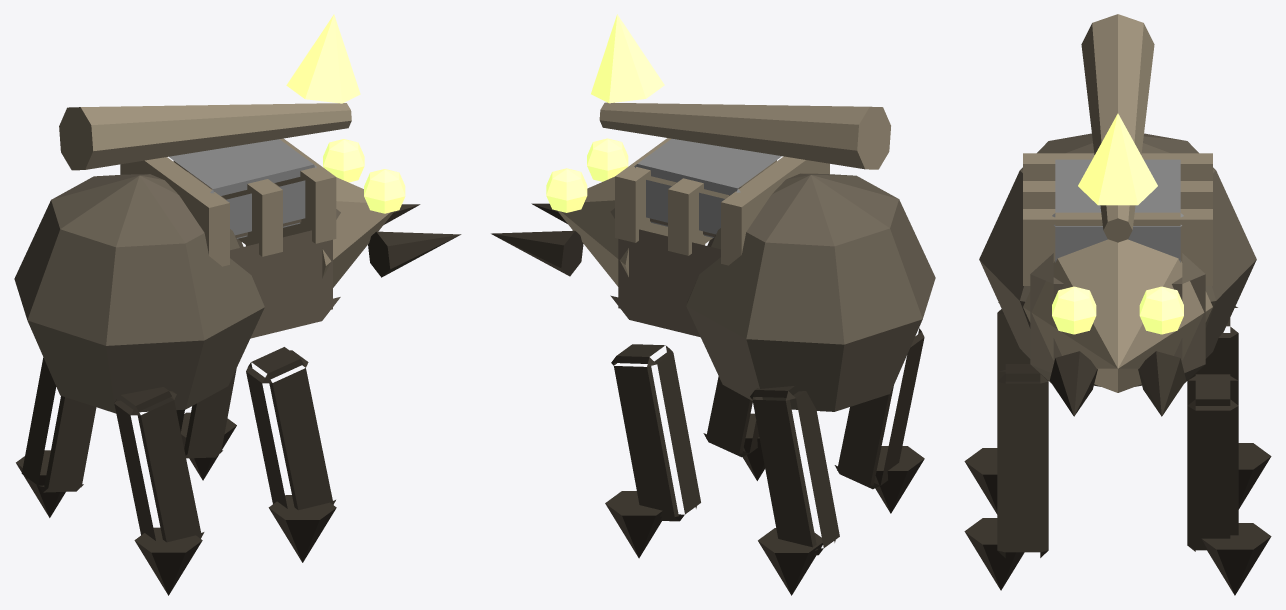
The model's file is bl_barbs.glb.
The picture shows the model from 3 angles, left to right: view 1: azimuth 30°, elevation 25°; view 2: azimuth 150°, elevation 25°; view 3: azimuth 270°, elevation 25°; orthographic projection. The views are drawn at different scales.
Parts seen in each view (by area): view 1: body, leg_2_a, leg_3_b, leg_1_a, leg_0_b; view 2: body, leg_0_b, leg_1_a, leg_3_b, leg_2_a; view 3: body, leg_2_a, leg_0_b, leg_1_a, leg_3_b.
Boxes of the visible parts, x1,y1,x2,y2 form: body: [14, 14, 461, 413]; leg_2_a: [246, 347, 336, 562]; leg_3_b: [114, 387, 204, 595]; leg_1_a: [16, 357, 96, 517]; leg_0_b: [176, 368, 236, 480]; body: [491, 14, 935, 411]; leg_0_b: [605, 344, 700, 558]; leg_1_a: [750, 386, 839, 595]; leg_3_b: [834, 328, 924, 513]; leg_2_a: [703, 376, 765, 480]; body: [979, 14, 1256, 416]; leg_2_a: [964, 364, 1048, 590]; leg_0_b: [1187, 374, 1271, 595]; leg_1_a: [1187, 306, 1271, 509]; leg_3_b: [964, 302, 1048, 514].
Size of the model in its own units: 13.02 by 14.68 by 7.81.
